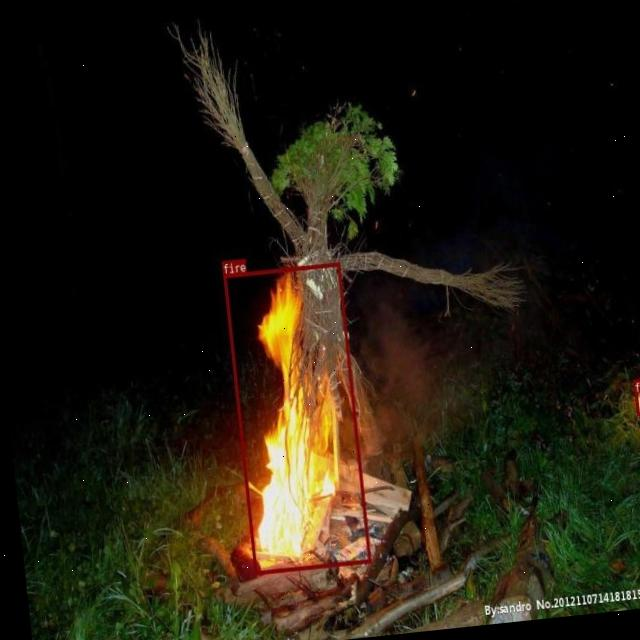fire: (222, 262, 370, 574), (631, 377, 640, 414)
